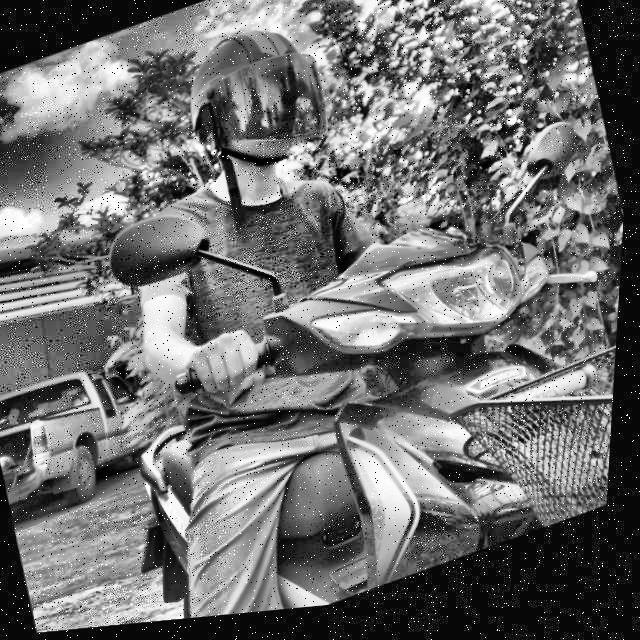Helmet: (166, 7, 348, 201)
